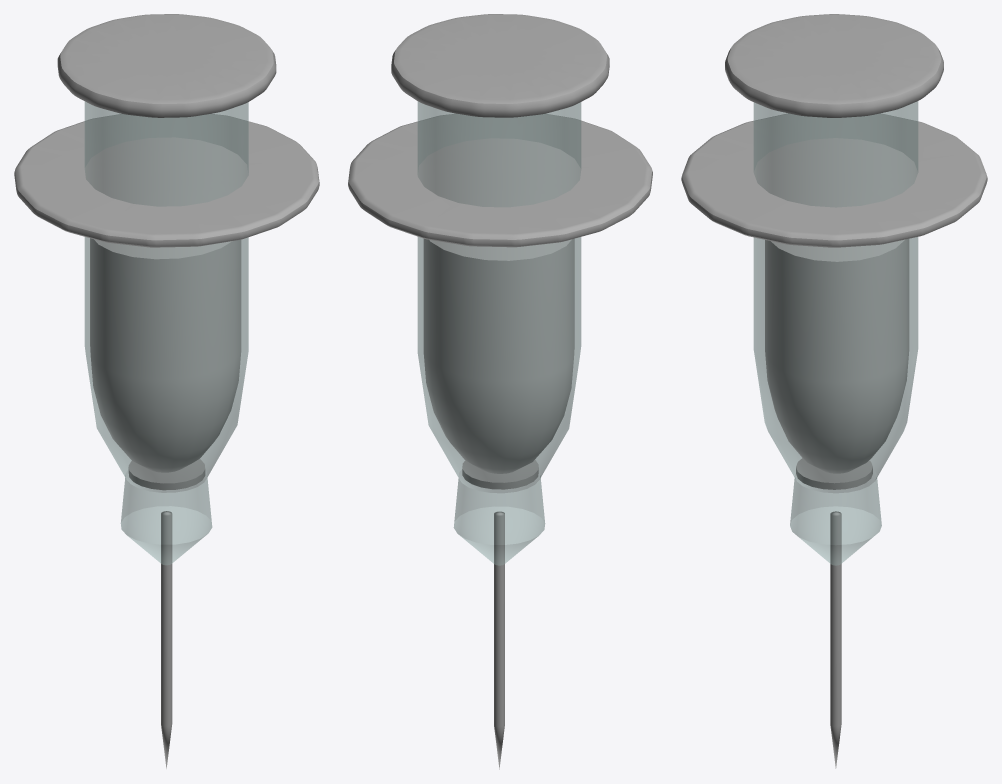
Rendered from LazarusSerumFinal1.fbx.
3 renders of one model, left to right at view 1: azimuth 30°, elevation 25°; view 2: azimuth 150°, elevation 25°; view 3: azimuth 270°, elevation 25°, orthographic.
Parts seen in each view (by area): view 1: pCylinder1, pCylinder5, pCylinder7, pCylinder2, pCylinder4, pCylinder6; view 2: pCylinder1, pCylinder5, pCylinder7, pCylinder2, pCylinder4, pCylinder6; view 3: pCylinder1, pCylinder5, pCylinder7, pCylinder2, pCylinder4, pCylinder6.
Boxes of the visible parts, bbox=[...] form: pCylinder1: bbox=[84, 101, 248, 564]; pCylinder5: bbox=[14, 114, 319, 247]; pCylinder7: bbox=[90, 238, 241, 472]; pCylinder2: bbox=[57, 14, 276, 117]; pCylinder4: bbox=[161, 511, 172, 768]; pCylinder6: bbox=[128, 459, 205, 490]; pCylinder1: bbox=[417, 101, 581, 565]; pCylinder5: bbox=[348, 114, 652, 247]; pCylinder7: bbox=[423, 239, 574, 473]; pCylinder2: bbox=[391, 14, 609, 117]; pCylinder4: bbox=[494, 511, 504, 769]; pCylinder6: bbox=[462, 460, 538, 489]; pCylinder1: bbox=[753, 101, 918, 565]; pCylinder5: bbox=[681, 113, 987, 247]; pCylinder7: bbox=[765, 239, 909, 473]; pCylinder2: bbox=[725, 14, 943, 117]; pCylinder4: bbox=[830, 511, 841, 768]; pCylinder6: bbox=[796, 458, 872, 489].
Size of the model in its own units: 0.5397 by 1.38 by 0.5397.
